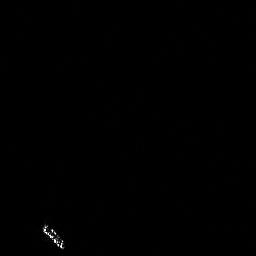ship: (39, 220, 68, 252)
